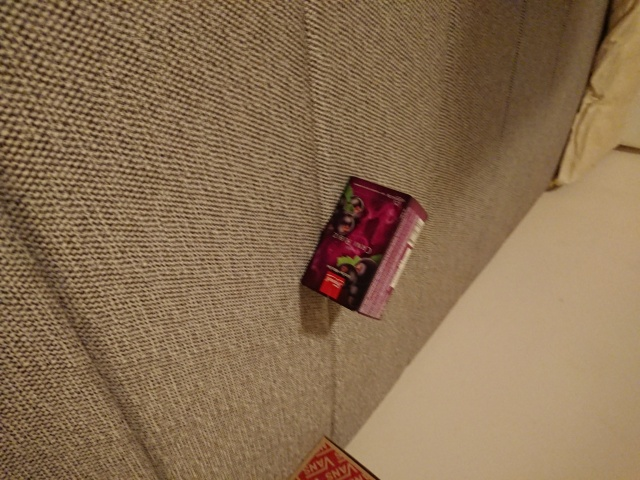Franck Black Currant Tea 60g: (298, 174, 432, 322)
